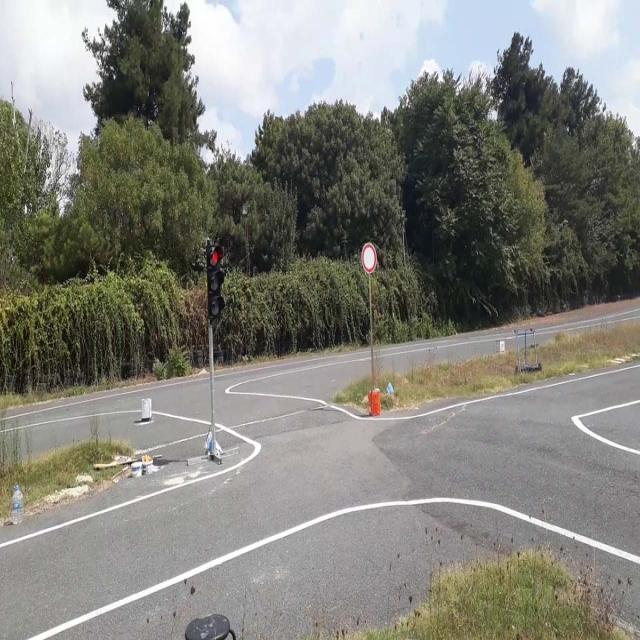kirmizi: (207, 246, 222, 318)
